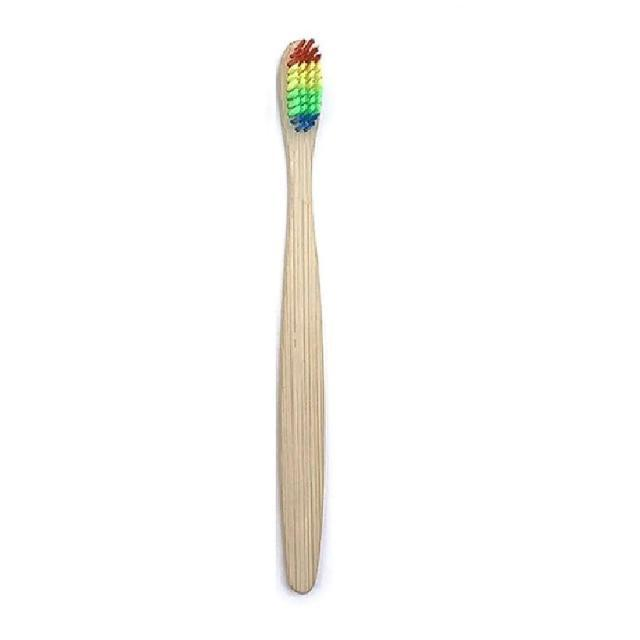toothbrush: (236, 11, 372, 608)
